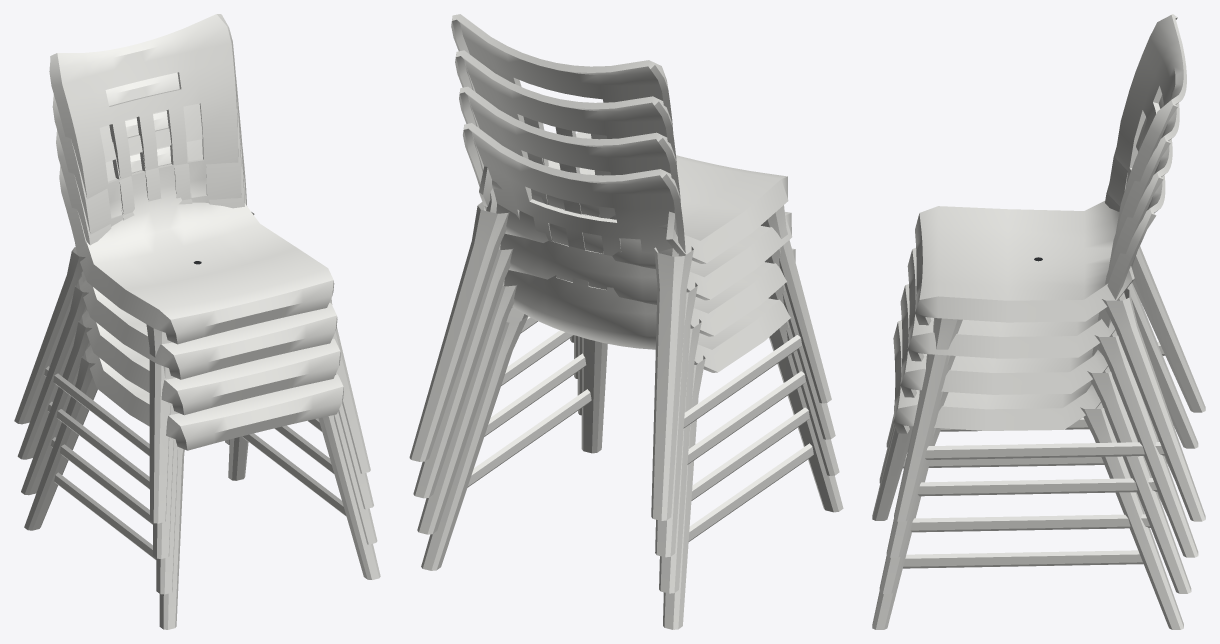
Rendered from SC_Ter_Chair_Stack_White.gltf.
3 views of the same model, side by side, from view 1: azimuth 30°, elevation 25°; view 2: azimuth 150°, elevation 25°; view 3: azimuth 270°, elevation 25° (orthographic). The views are drawn at different scales.
Visible parts, largest first — view 1: SC_Ter_Chair_Stack_White; view 2: SC_Ter_Chair_Stack_White; view 3: SC_Ter_Chair_Stack_White.
Part boxes in pixels (x1=…): SC_Ter_Chair_Stack_White: x1=14, y1=14, x2=380, y2=629; SC_Ter_Chair_Stack_White: x1=409, y1=14, x2=843, y2=629; SC_Ter_Chair_Stack_White: x1=872, y1=14, x2=1205, y2=629.
Size of the model in its own units: 0.5363 by 1.11 by 0.6514.
Materials: 1 (1 with a texture image).
